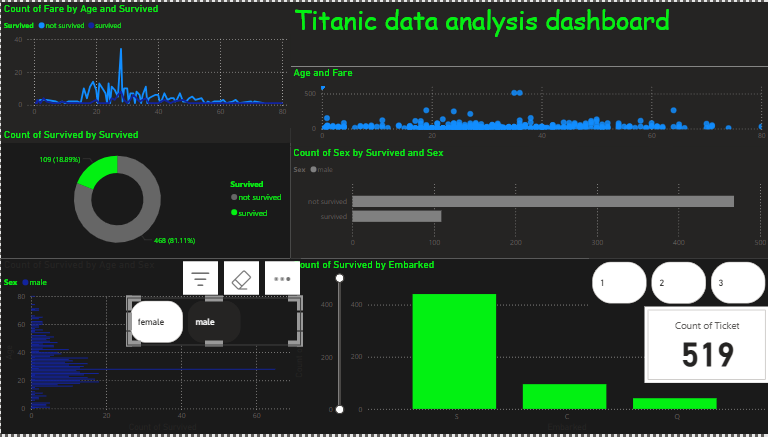

The page's visual inventory and layout, read from the dashboard file:
{"tool":"powerbi","page":{"name":"Page 1","canvas":[1280,720],"ordinal":0},"visuals":[{"type":"donutChart","fields":{"Y":["CountNonNull(Titanic dataset.Survived)"],"Category":["Titanic dataset.Survived"]},"box":[0,210,482.5,217.5],"z":0},{"type":"barChart","fields":{"Category":["Titanic dataset.Survived"],"Y":["CountNonNull(Titanic dataset.Sex)"],"Series":["Titanic dataset.Sex"]},"box":[482.5,240,797.5,187.5],"z":1000},{"type":"barChart","fields":{"Category":["Titanic dataset.Age"],"Y":["CountNonNull(Titanic dataset.Survived)"],"Series":["Titanic dataset.Sex"]},"box":[0,427.3,500,292.7],"z":2000},{"type":"clusteredColumnChart","fields":{"Category":["Titanic dataset.Embarked"],"Y":["CountNonNull(Titanic dataset.Survived)"]},"box":[483.3,426.7,796.7,293.3],"z":3000},{"type":"scatterChart","fields":{"X":["Titanic dataset.Age"],"Y":["Titanic dataset.Fare"]},"box":[483.3,106.7,796.7,133.3],"z":4000},{"type":"advancedSlicerVisual","fields":{"Values":["Titanic dataset.Sex"]},"box":[210,492.5,290,80],"z":5000},{"type":"lineChart","fields":{"Category":["Titanic dataset.Age"],"Y":["Count(Titanic dataset.Fare)"],"Series":["Titanic dataset.Survived"]},"box":[0,0,483.3,210],"z":6000},{"type":"advancedSlicerVisual","fields":{"Values":["Titanic dataset.Pclass"]},"box":[980,426.7,300,80],"z":7000},{"type":"cardVisual","fields":{"Data":["Count(Titanic dataset.Ticket)"]},"box":[1073.3,510,206.7,126.7],"z":8000},{"type":"textbox","title":"Titanic data analysis dashboard","box":[483.3,0,796.7,106.7],"z":9000}]}

Visuals, with their boxes in screenshot pixels (x1, y1, x2, y2), scaled from the page's 1280x720 canvas onto the 768x437 screenshot:
donutChart - CountNonNull(Titanic dataset.Survived) x Titanic dataset.Survived: 0/127/290/259
barChart - Titanic dataset.Survived x CountNonNull(Titanic dataset.Sex): 290/146/767/259
barChart - Titanic dataset.Age x CountNonNull(Titanic dataset.Survived): 0/259/300/436
clusteredColumnChart - Titanic dataset.Embarked x CountNonNull(Titanic dataset.Survived): 290/259/767/436
scatterChart - Titanic dataset.Age x Titanic dataset.Fare: 290/65/767/146
advancedSlicerVisual - Titanic dataset.Sex: 126/299/300/347
lineChart - Titanic dataset.Age x Count(Titanic dataset.Fare): 0/0/290/127
advancedSlicerVisual - Titanic dataset.Pclass: 588/259/767/308
cardVisual - Count(Titanic dataset.Ticket): 644/310/767/386
"Titanic data analysis dashboard" textbox: 290/0/767/65
